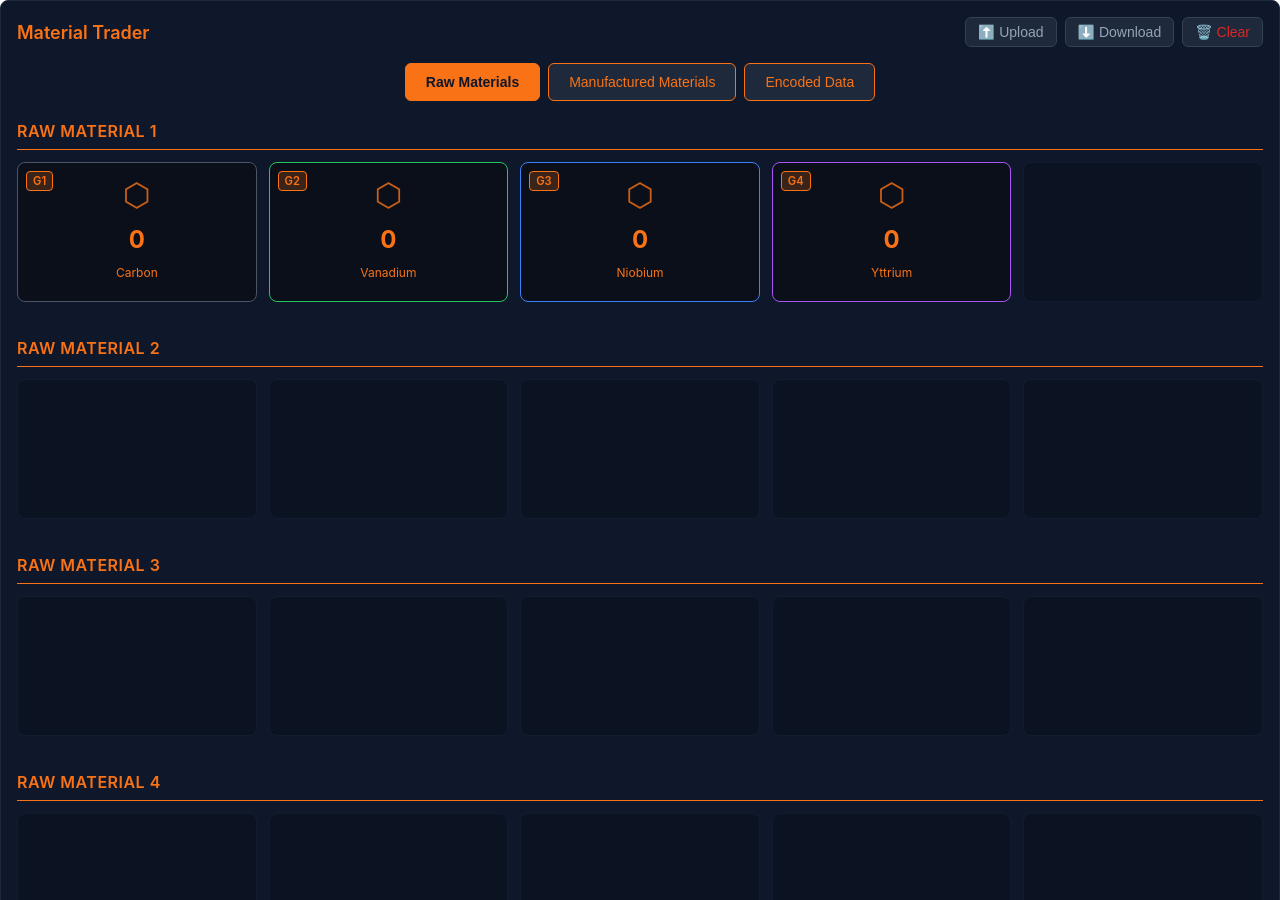
Test: MaterialTraderTab › Inline Editing › clicking a material cell enables editing
The image size is (1280, 900).
Click the element with test id "material-cell-Carbon".
click(137, 232)  # box [17, 162, 257, 302]
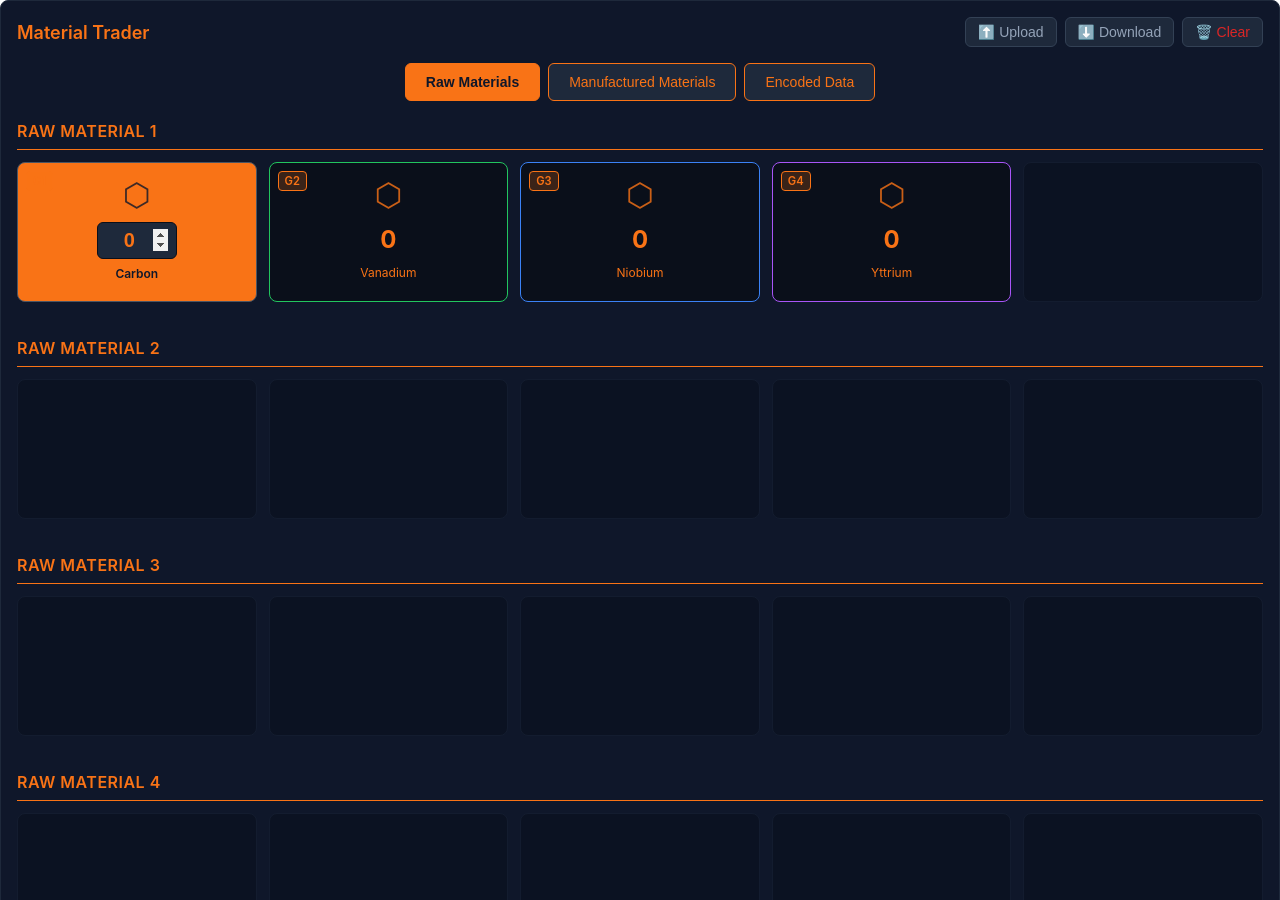
Expected: the number field showing "0" is shown, [97, 222, 177, 259]
